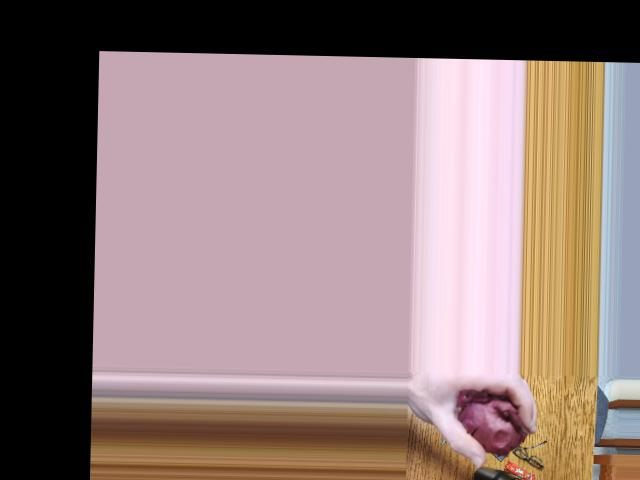onion: (471, 402, 525, 445)
